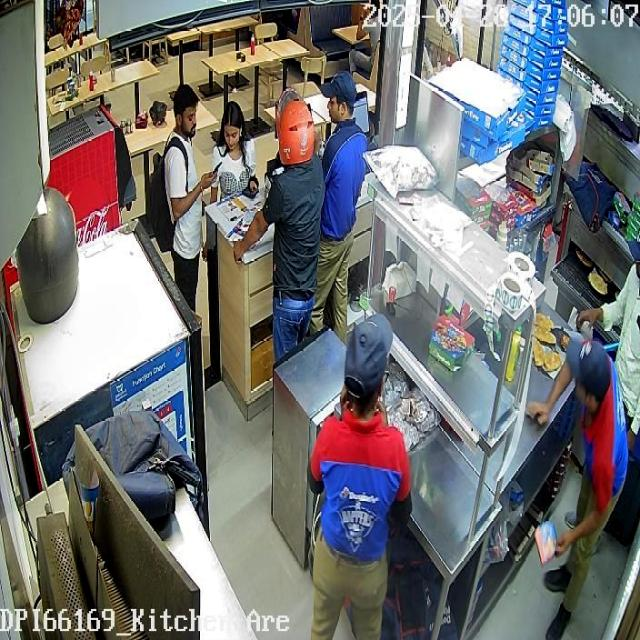helmet: (276, 88, 313, 164)
